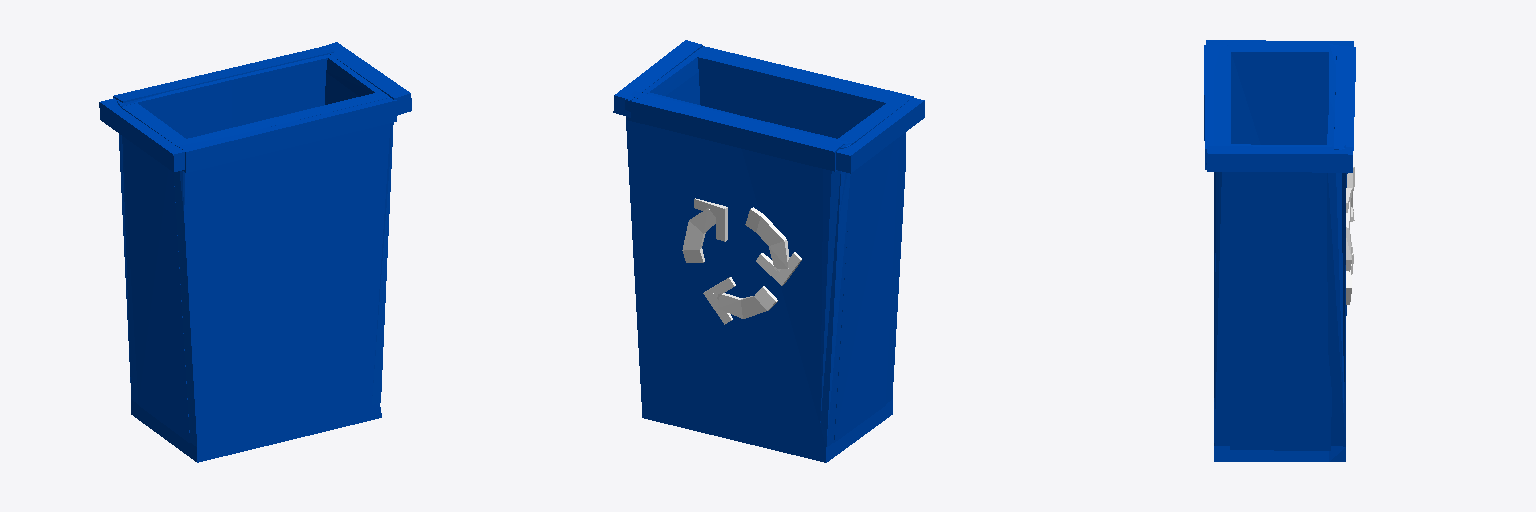
The picture shows the model from 3 angles: view 1: azimuth 30°, elevation 25°; view 2: azimuth 150°, elevation 25°; view 3: azimuth 270°, elevation 25°; orthographic projection.
Parts seen in each view (by area): view 1: group[number redacted], group[number redacted], group[number redacted], group[number redacted], group[number redacted], group[number redacted], group[number redacted], group[number redacted], group[number redacted], group[number redacted], group[number redacted]; view 2: group[number redacted], group[number redacted], group[number redacted], group[number redacted], group[number redacted], group[number redacted], group[number redacted], group[number redacted], group[number redacted], group[number redacted], group[number redacted], group[number redacted] (+2 smaller); view 3: group[number redacted], group[number redacted], group[number redacted], group[number redacted], group[number redacted], group[number redacted], group[number redacted], group[number redacted], group[number redacted], group[number redacted].
Boxes of the visible parts, box(x1,y1,x2,y2) form: group[number redacted]: box(172, 116, 289, 447); group[number redacted]: box(282, 91, 393, 424); group[number redacted]: box(121, 103, 189, 442); group[number redacted]: box(177, 98, 396, 172); group[number redacted]: box(117, 78, 231, 403); group[number redacted]: box(230, 49, 329, 127); group[number redacted]: box(131, 399, 381, 462); group[number redacted]: box(99, 98, 184, 171); group[number redacted]: box(113, 47, 334, 102); group[number redacted]: box(320, 42, 411, 115); group[number redacted]: box(325, 55, 380, 104); group[number redacted]: box(734, 116, 852, 447); group[number redacted]: box(626, 92, 741, 424); group[number redacted]: box(834, 103, 900, 442); group[number redacted]: box(625, 91, 844, 171); group[number redacted]: box(792, 74, 905, 403); group[number redacted]: box(691, 50, 798, 127); group[number redacted]: box(642, 399, 892, 462); group[number redacted]: box(836, 98, 924, 173); group[number redacted]: box(745, 207, 801, 285); group[number redacted]: box(682, 198, 727, 262); group[number redacted]: box(703, 277, 777, 324); group[number redacted]: box(613, 40, 702, 117); group[number redacted]: box(1230, 144, 1331, 450); group[number redacted]: box(1231, 44, 1328, 144); group[number redacted]: box(1214, 99, 1230, 445); group[number redacted]: box(1327, 99, 1345, 446); group[number redacted]: box(1206, 146, 1352, 172); group[number redacted]: box(1334, 46, 1355, 150); group[number redacted]: box(1214, 446, 1345, 461); group[number redacted]: box(1204, 45, 1222, 169); group[number redacted]: box(1214, 45, 1230, 98); group[number redacted]: box(1206, 40, 1353, 46).
Size of the model in its own units: 0.9835 by 1.26 by 0.5445.